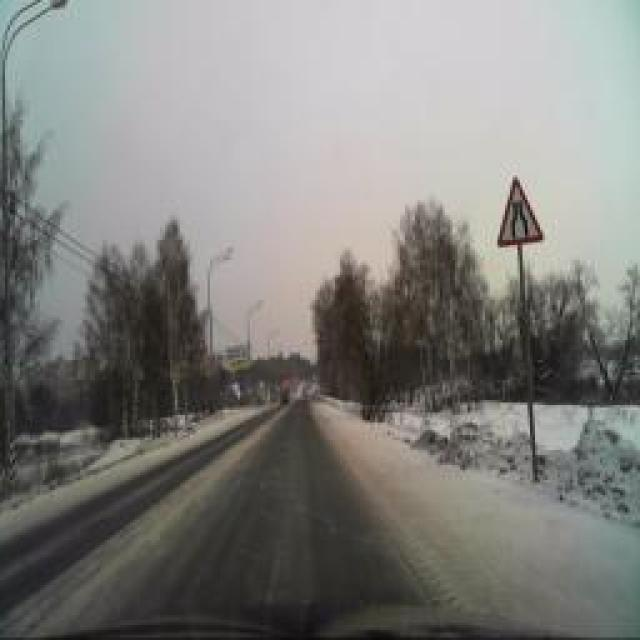sign: (498, 176, 542, 249)
